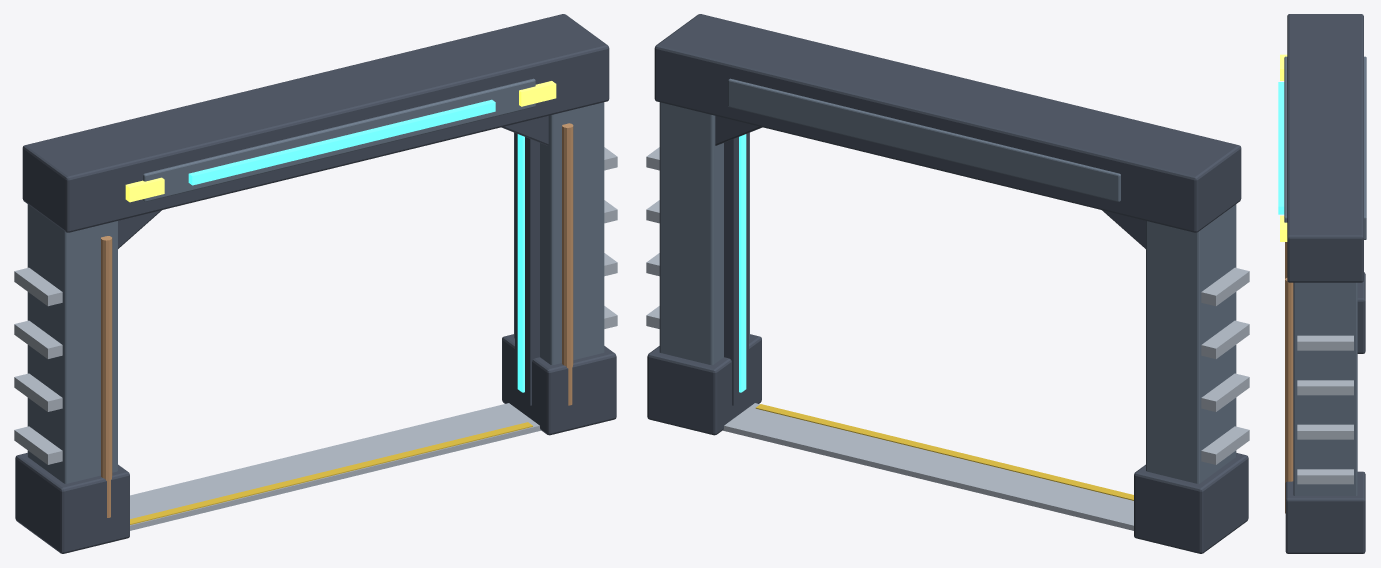
Rendered from marco_extraccion_epico.glb.
3 renders of one model, left to right at view 1: azimuth 30°, elevation 25°; view 2: azimuth 150°, elevation 25°; view 3: azimuth 270°, elevation 25°, orthographic. The views are drawn at different scales.
Visible parts, largest first — view 1: Cabecera_Main, PilonCuerpo_-3.85, PilonCuerpo_3.85, Umbral_Suelo, PilonBase_-3.85, Cabecera_Placa, PilonBase_3.85, EmisorBase_3.85, Cabecera_Luz, Cable_3.85, Cable_-3.85, Umbral_Guia (+7 smaller); view 2: Cabecera_Main, PilonCuerpo_-3.85, PilonCuerpo_3.85, Umbral_Suelo, Cabecera_Placa, PilonBase_-3.85, PilonBase_3.85, EmisorBase_3.85, Umbral_Guia, EmisorLuz_3.85, Aleta_-3.85_2.2, Aleta_-3.85_3.8 (+3 smaller); view 3: Cabecera_Main, PilonCuerpo_3.85, PilonBase_3.85, Cable_3.85, Cabecera_Placa, Cabecera_Luz, Aleta_3.85_1.4, Aleta_3.85_2.2, Aleta_3.85_3.0, Aleta_3.85_3.8, PilonBase_-3.85, Cabecera_AvisoDer (+1 smaller).
Part boxes in pixels (left/top/right/bottom): Cabecera_Main: left=22, top=14, right=609, bottom=232; PilonCuerpo_-3.85: left=27, top=204, right=117, bottom=483; PilonCuerpo_3.85: left=514, top=102, right=604, bottom=365; Umbral_Suelo: left=130, top=403, right=540, bottom=530; PilonBase_-3.85: left=15, top=453, right=129, bottom=553; Cabecera_Placa: left=143, top=78, right=535, bottom=201; PilonBase_3.85: left=502, top=334, right=616, bottom=435; EmisorBase_3.85: left=515, top=133, right=539, bottom=405; Cabecera_Luz: left=188, top=99, right=495, bottom=185; Cable_3.85: left=562, top=123, right=573, bottom=405; Cable_-3.85: left=101, top=236, right=112, bottom=517; Umbral_Guia: left=130, top=422, right=532, bottom=524; Cabecera_Main: left=654, top=14, right=1241, bottom=232; PilonCuerpo_-3.85: left=1146, top=204, right=1236, bottom=483; PilonCuerpo_3.85: left=659, top=102, right=749, bottom=365; Umbral_Suelo: left=723, top=403, right=1133, bottom=530; Cabecera_Placa: left=728, top=78, right=1120, bottom=201; PilonBase_-3.85: left=1134, top=453, right=1248, bottom=553; PilonBase_3.85: left=647, top=334, right=761, bottom=435; EmisorBase_3.85: left=724, top=133, right=748, bottom=405; Umbral_Guia: left=755, top=404, right=1133, bottom=500; EmisorLuz_3.85: left=739, top=134, right=746, bottom=392; Aleta_-3.85_2.2: left=1201, top=373, right=1249, bottom=411; Aleta_-3.85_3.8: left=1201, top=267, right=1249, bottom=306; Cabecera_Main: left=1287, top=14, right=1363, bottom=282; PilonCuerpo_3.85: left=1293, top=282, right=1357, bottom=495; PilonBase_3.85: left=1285, top=471, right=1365, bottom=553; Cable_3.85: left=1285, top=278, right=1293, bottom=513; Cabecera_Placa: left=1284, top=56, right=1366, bottom=239; Cabecera_Luz: left=1278, top=82, right=1284, bottom=214; Aleta_3.85_1.4: left=1297, top=469, right=1353, bottom=484; Aleta_3.85_2.2: left=1297, top=424, right=1353, bottom=439; Aleta_3.85_3.0: left=1297, top=380, right=1353, bottom=395; Aleta_3.85_3.8: left=1297, top=335, right=1353, bottom=350; PilonBase_-3.85: left=1357, top=272, right=1365, bottom=353; Cabecera_AvisoDer: left=1280, top=215, right=1287, bottom=241.
Bounding box in the file's own units: 9.02 × 5.68 × 1.44.
